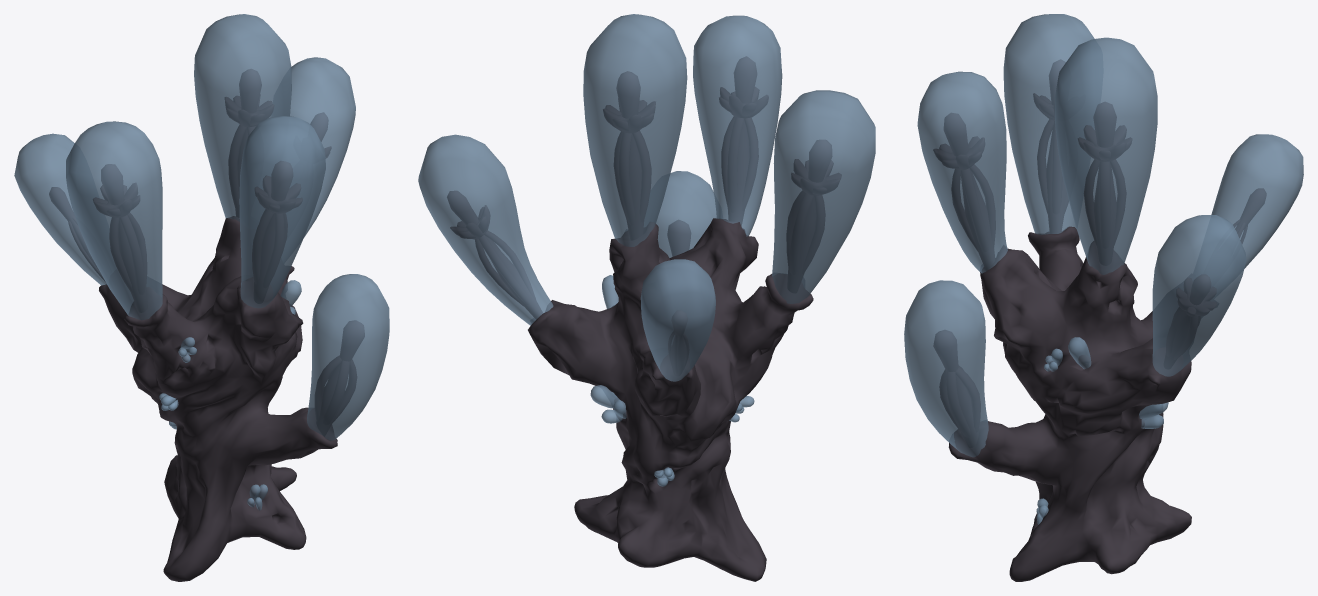
Rendered from Plant_LP.fbx.
3 renders of one model, left to right at view 1: azimuth 30°, elevation 25°; view 2: azimuth 150°, elevation 25°; view 3: azimuth 270°, elevation 25°, orthographic. The views are drawn at different scales.
Visible parts, largest first — view 1: BigBulbs_LP, TreeBase_LP, InnerBulbs_LP, SmallBulbs_LP; view 2: BigBulbs_LP, TreeBase_LP, InnerBulbs_LP, SmallBulbs_LP; view 3: BigBulbs_LP, TreeBase_LP, InnerBulbs_LP, SmallBulbs_LP.
Part boxes in pixels (box(x1,y1,x2,y2)): BigBulbs_LP: box(14, 14, 389, 440); TreeBase_LP: box(99, 216, 337, 581); InnerBulbs_LP: box(49, 69, 364, 436); SmallBulbs_LP: box(159, 280, 301, 510); BigBulbs_LP: box(418, 14, 875, 381); TreeBase_LP: box(528, 218, 813, 581); InnerBulbs_LP: box(447, 56, 841, 376); SmallBulbs_LP: box(590, 275, 754, 486); BigBulbs_LP: box(904, 14, 1303, 457); TreeBase_LP: box(948, 226, 1191, 581); InnerBulbs_LP: box(933, 59, 1266, 447); SmallBulbs_LP: box(1036, 337, 1168, 524).
Size of the model in its own units: 573 by 816 by 535.
